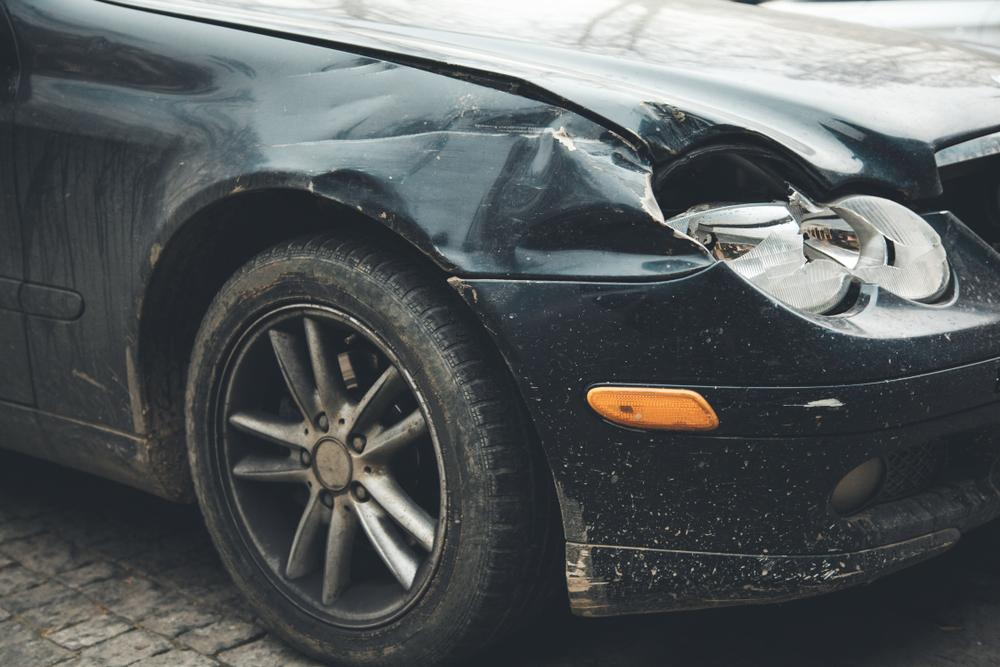dent: (280, 56, 713, 278)
lamp broken: (647, 145, 954, 309)
scratch: (566, 542, 613, 618), (783, 398, 855, 409)
